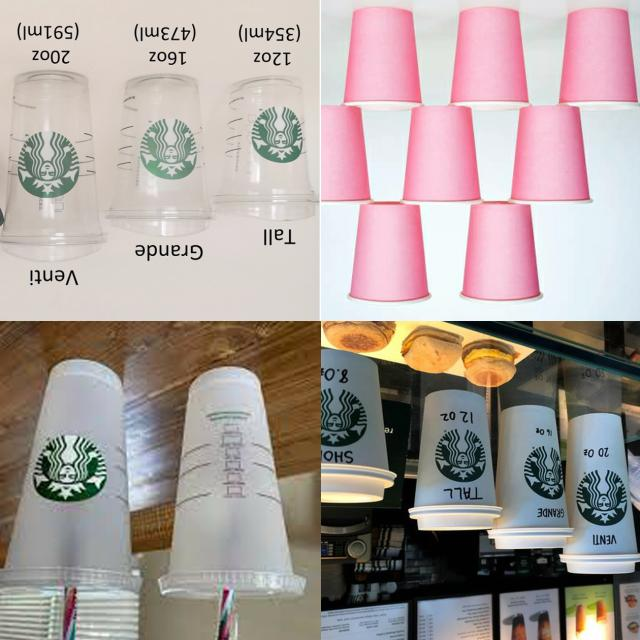plastik: (158, 367, 306, 640), (0, 359, 139, 640), (0, 72, 106, 263), (106, 76, 212, 235), (214, 78, 318, 221), (409, 390, 501, 531), (560, 413, 640, 572), (489, 405, 572, 550), (321, 350, 396, 503), (348, 202, 431, 305), (459, 202, 542, 303), (509, 106, 593, 204), (560, 9, 639, 110), (451, 8, 529, 110), (401, 106, 482, 204), (344, 7, 421, 110), (320, 105, 372, 204)
